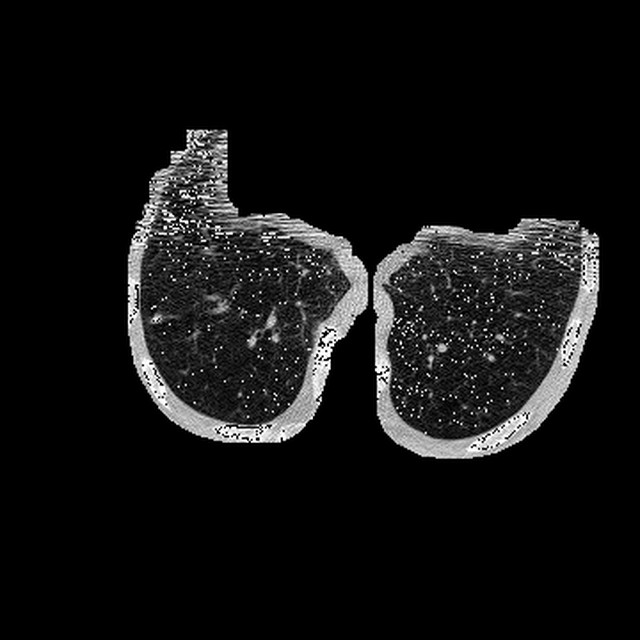PN: (155, 316, 162, 324)
